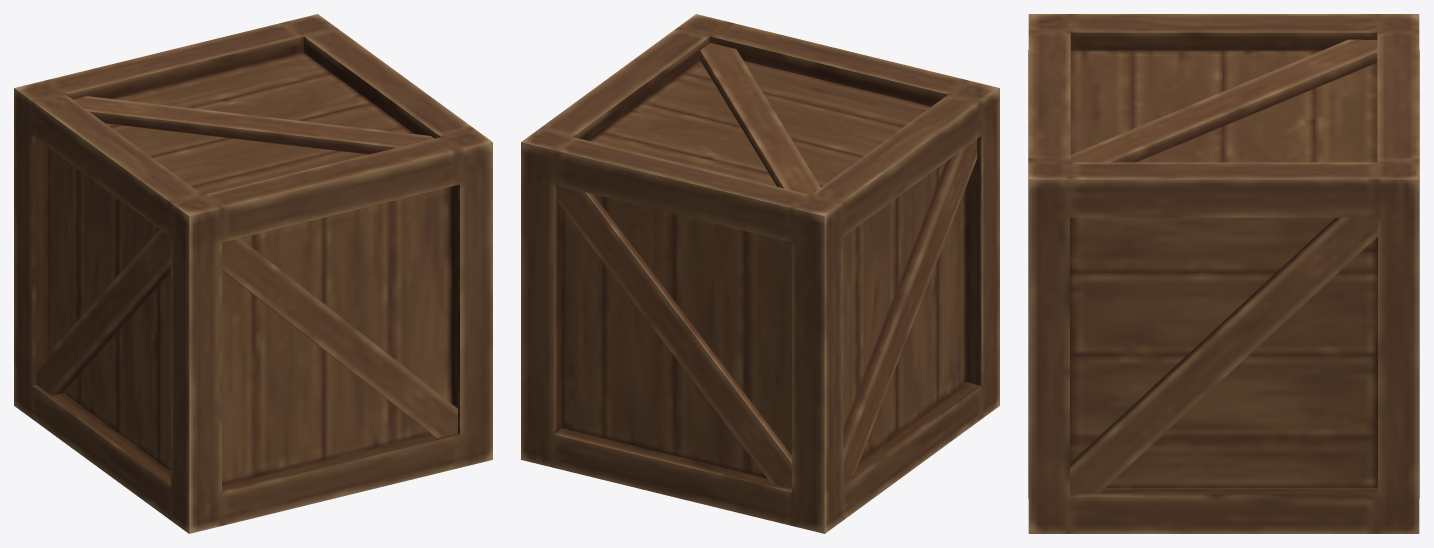
Rendered from kibako.fbx.
The picture shows the model from 3 angles, left to right: view 1: azimuth 30°, elevation 25°; view 2: azimuth 150°, elevation 25°; view 3: azimuth 270°, elevation 25°; orthographic projection. The views are drawn at different scales.
Visible parts, largest first — view 1: wooden_box; view 2: wooden_box; view 3: wooden_box.
Part boxes in pixels (<box>): wooden_box: <box>14,14,492,533</box>; wooden_box: <box>521,14,999,533</box>; wooden_box: <box>1028,14,1419,533</box>.
Bounding box in the file's own units: 105 × 105 × 105.
